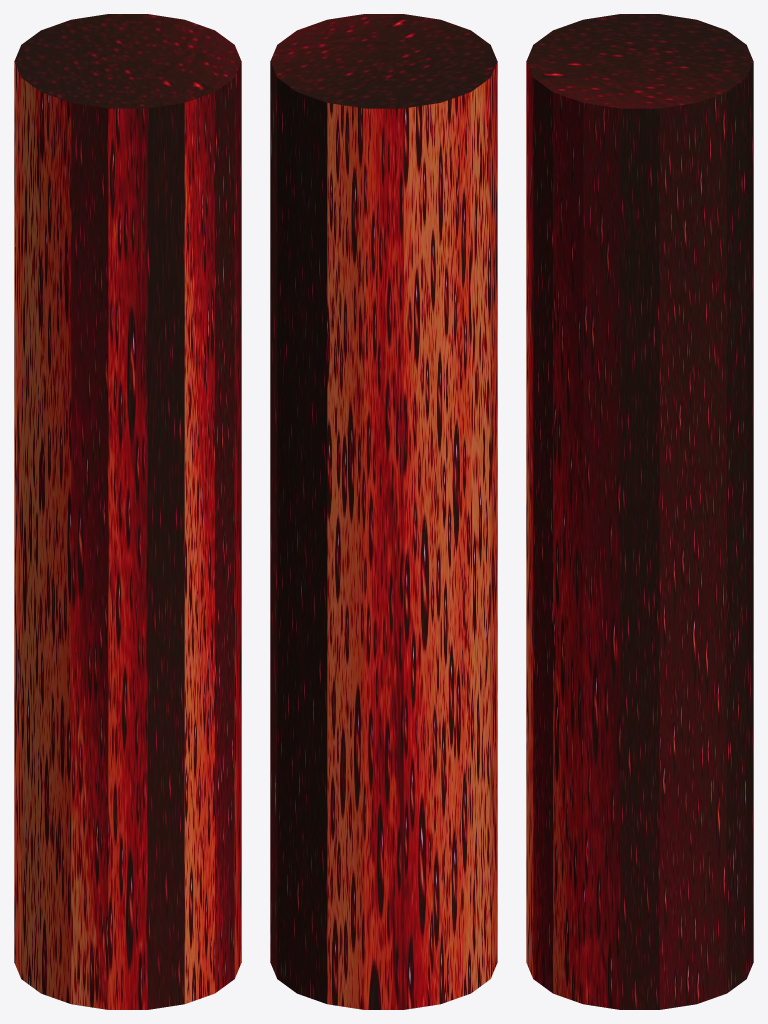
File: SodaStream.glb
The picture shows the model from 3 angles, left to right: view 1: azimuth 30°, elevation 25°; view 2: azimuth 150°, elevation 25°; view 3: azimuth 270°, elevation 25°; orthographic projection.
Parts seen in each view (by area): view 1: Cylinder; view 2: Cylinder; view 3: Cylinder.
Part boxes in pixels (left/top/right/bottom): Cylinder: left=14, top=14, right=241, bottom=1009; Cylinder: left=270, top=14, right=497, bottom=1009; Cylinder: left=526, top=14, right=753, bottom=1009.
Size of the model in its own units: 1.97 by 8.76 by 2.
Materials: 1 (1 with a texture image).
